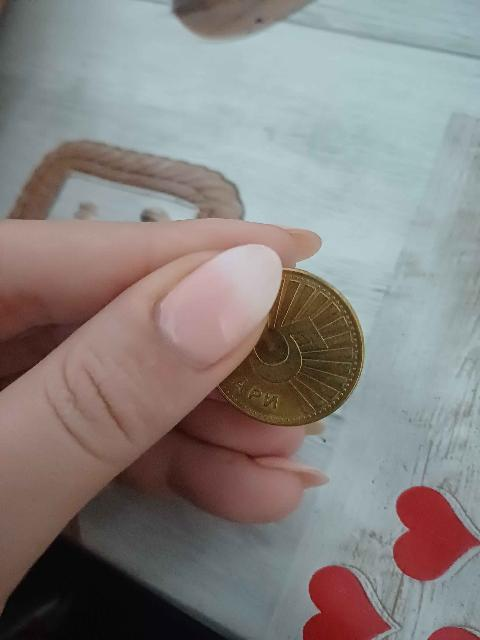5_coin: (219, 269, 363, 425)
